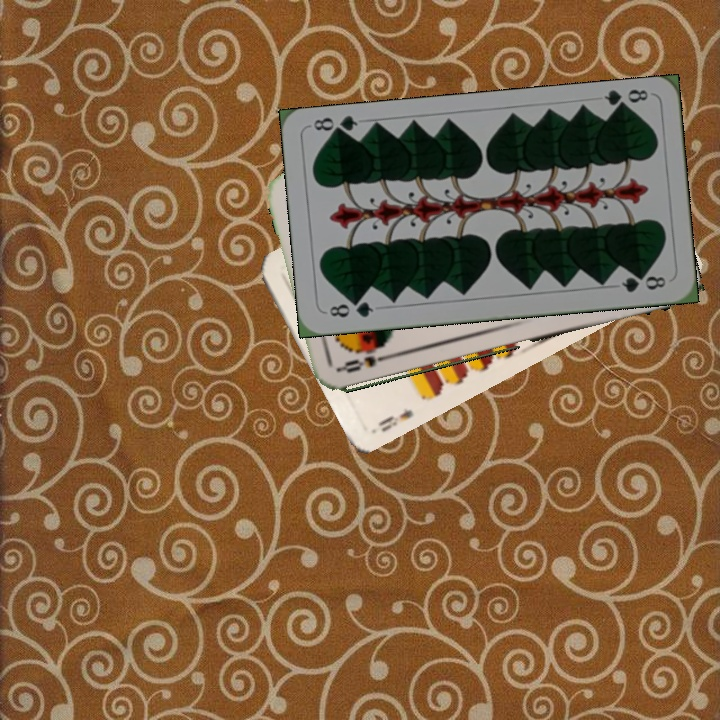E9: (373, 403, 416, 435)
G8: (600, 85, 651, 114), (325, 296, 376, 320)
SO: (336, 348, 394, 376)
